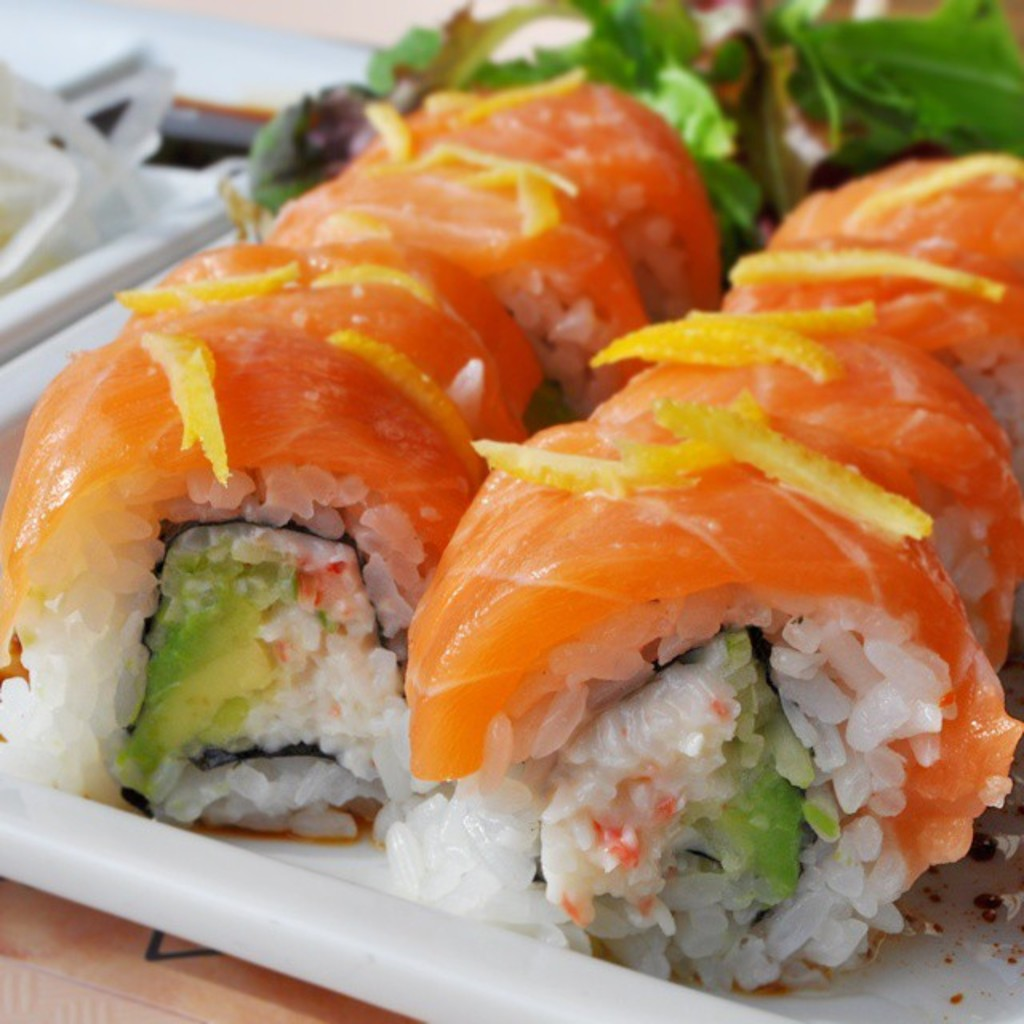sushi: (0, 88, 1022, 982), (379, 419, 1022, 987), (38, 291, 488, 898)
